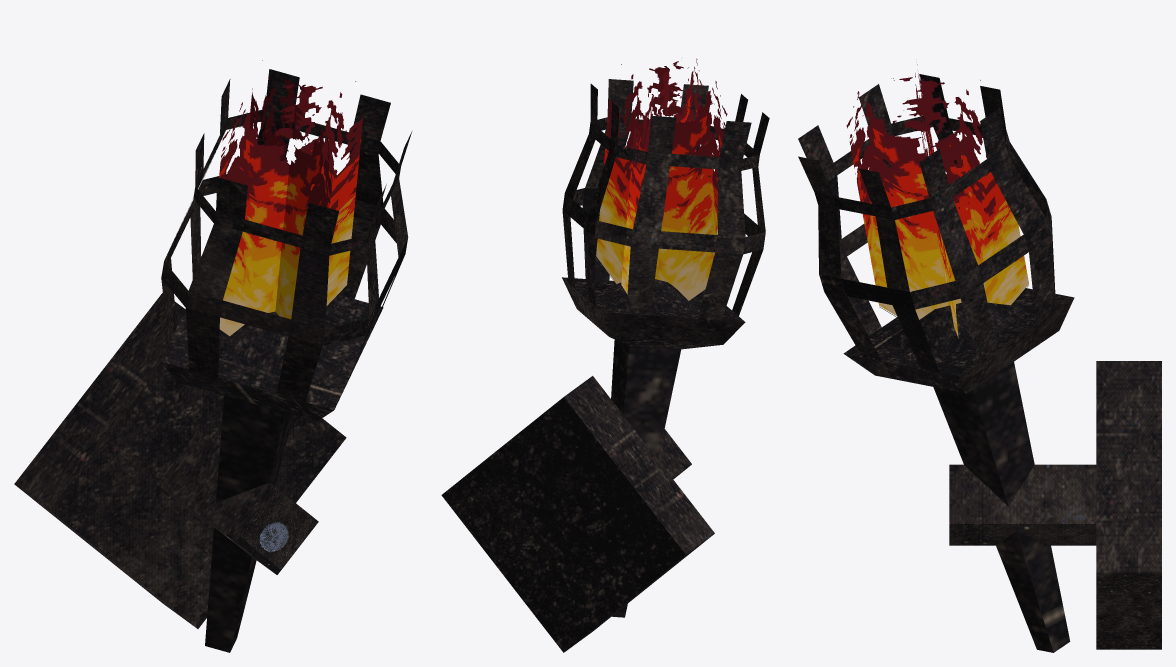
The model's file is torch.fbx.
3 views of the same model, side by side, from view 1: azimuth 30°, elevation 25°; view 2: azimuth 150°, elevation 25°; view 3: azimuth 270°, elevation 25° (orthographic). The views are drawn at different scales.
Visible parts, largest first — view 1: torch, FireX, FireY; view 2: torch, FireX, FireY; view 3: torch, FireY, FireX.
Part boxes in pixels (box(x1,y1,x2,y2)): torch: box(14, 69, 412, 652); FireX: box(219, 81, 363, 336); FireY: box(247, 60, 334, 319); torch: box(441, 79, 769, 652); FireX: box(596, 64, 727, 301); FireY: box(621, 58, 702, 294); torch: box(798, 74, 1161, 652); FireY: box(846, 77, 1028, 319); FireX: box(915, 64, 958, 338).
Bounding box in the file's own units: 84.85 × 183 × 97.
